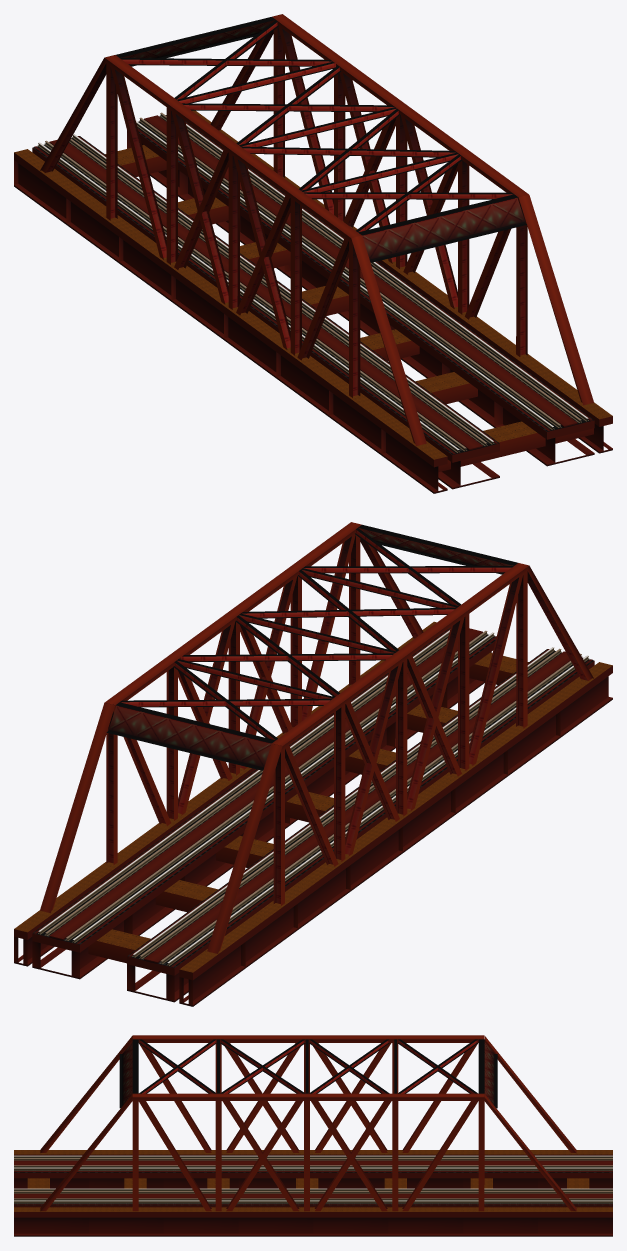
Rendered from KH_BRIDGE00.glb.
The picture shows the model from 3 angles, top to bottom: view 1: azimuth 30°, elevation 25°; view 2: azimuth 150°, elevation 25°; view 3: azimuth 270°, elevation 25°; orthographic projection. The views are drawn at different scales.
Visible parts, largest first — view 1: obj6; view 2: obj6; view 3: obj6.
Boxes of the visible parts, box(x1,y1,x2,y2) form: obj6: box(14, 14, 612, 493); obj6: box(14, 522, 612, 1006); obj6: box(14, 1035, 612, 1236).
Size of the model in its own units: 24.61 by 25.59 by 100.
Materials: 6 (6 with a texture image).
